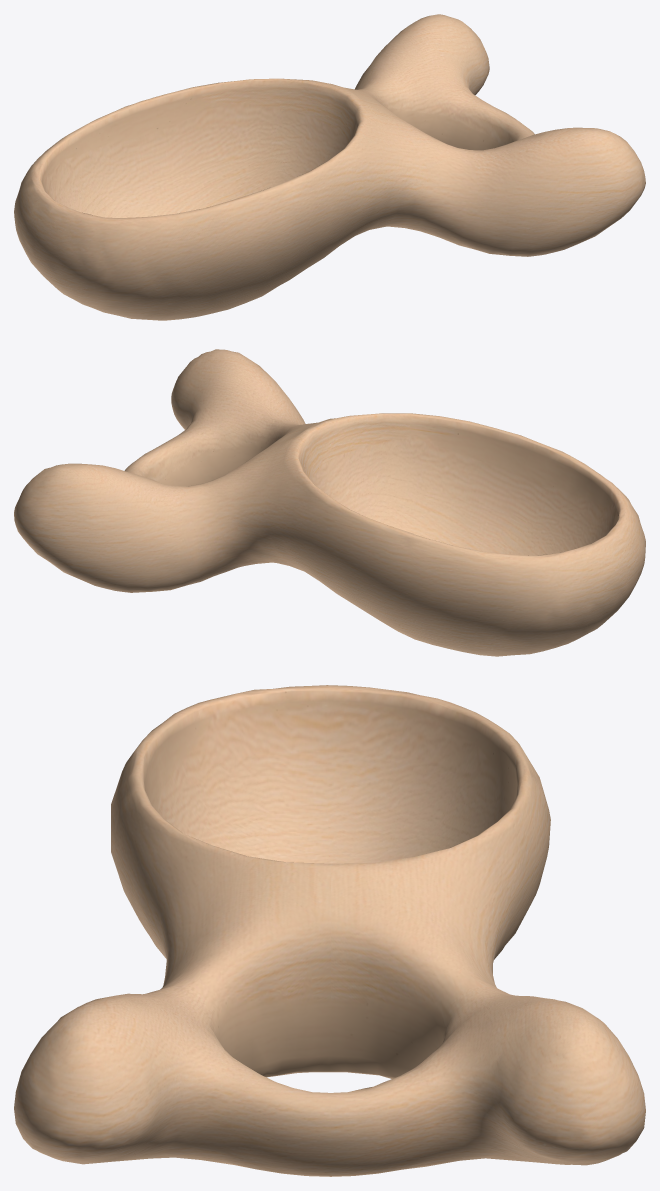
The model's file is spiseredskap_03.glb.
3 views of the same model, one above another, from view 1: azimuth 30°, elevation 25°; view 2: azimuth 150°, elevation 25°; view 3: azimuth 270°, elevation 25° (orthographic). The views are drawn at different scales.
Parts seen in each view (by area): view 1: tripo_node_9f415d39-7d02-415c-87c7-98044fc5f8c2; view 2: tripo_node_9f415d39-7d02-415c-87c7-98044fc5f8c2; view 3: tripo_node_9f415d39-7d02-415c-87c7-98044fc5f8c2.
Part boxes in pixels (x1,y1,x2,y2): tripo_node_9f415d39-7d02-415c-87c7-98044fc5f8c2: (14, 14, 645, 320); tripo_node_9f415d39-7d02-415c-87c7-98044fc5f8c2: (14, 349, 645, 656); tripo_node_9f415d39-7d02-415c-87c7-98044fc5f8c2: (14, 685, 645, 1176).
Size of the model in its own units: 0.998 by 0.3066 by 0.6621.
Materials: 1 (1 with a texture image).
